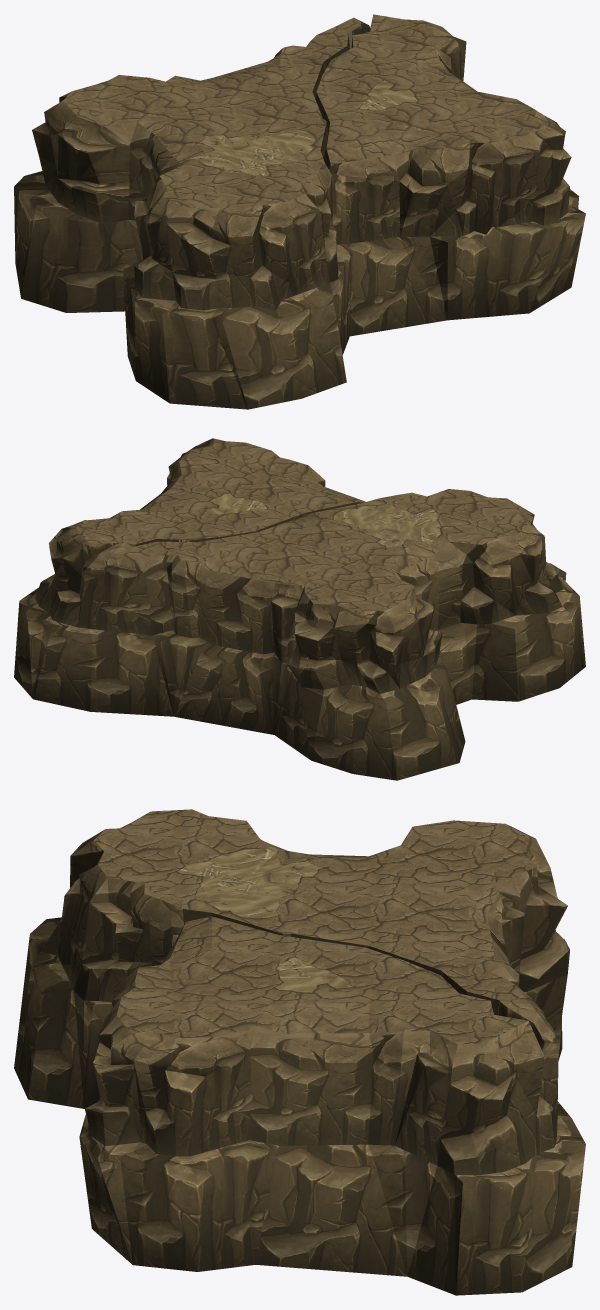
File: D_dimian001.fbx
3 renders of one model, top to bottom at view 1: azimuth 30°, elevation 25°; view 2: azimuth 150°, elevation 25°; view 3: azimuth 270°, elevation 25°, orthographic. The views are drawn at different scales.
Visible parts, largest first — view 1: D_dimian001; view 2: D_dimian001; view 3: D_dimian001.
Part boxes in pixels (<box>): D_dimian001: <box>14,14,585,409</box>; D_dimian001: <box>14,438,585,780</box>; D_dimian001: <box>14,809,585,1295</box>.
Bounding box in the file's own units: 2453 × 856 × 1999.
